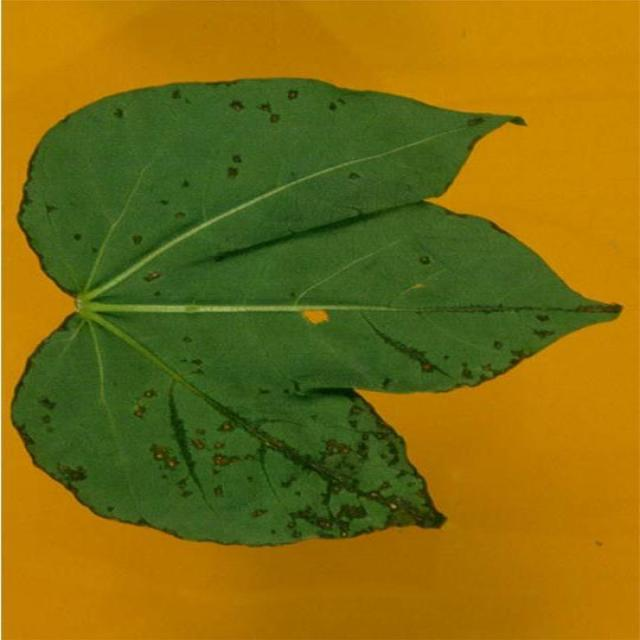Bacterial Blight: (83, 334, 420, 545)
